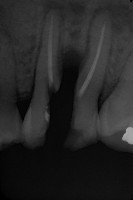Dental Caries: (60, 0, 133, 75)
Furcation Involvement: (43, 0, 64, 14)
